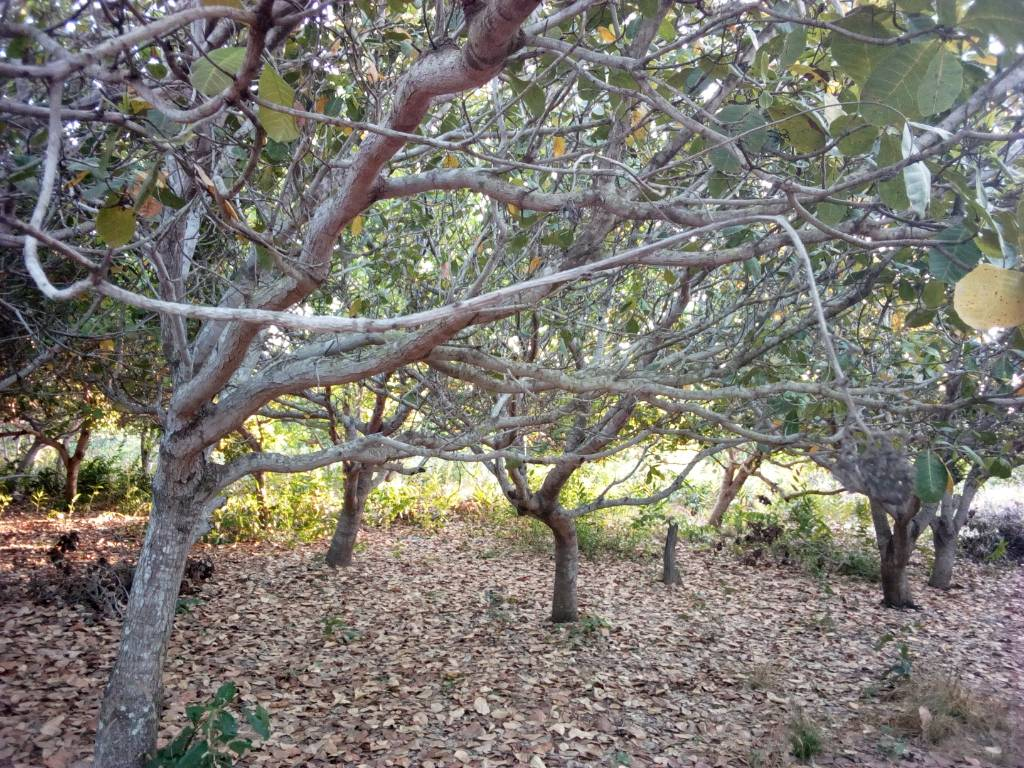Anthracnose: (856, 48, 960, 130), (951, 261, 1024, 333)
